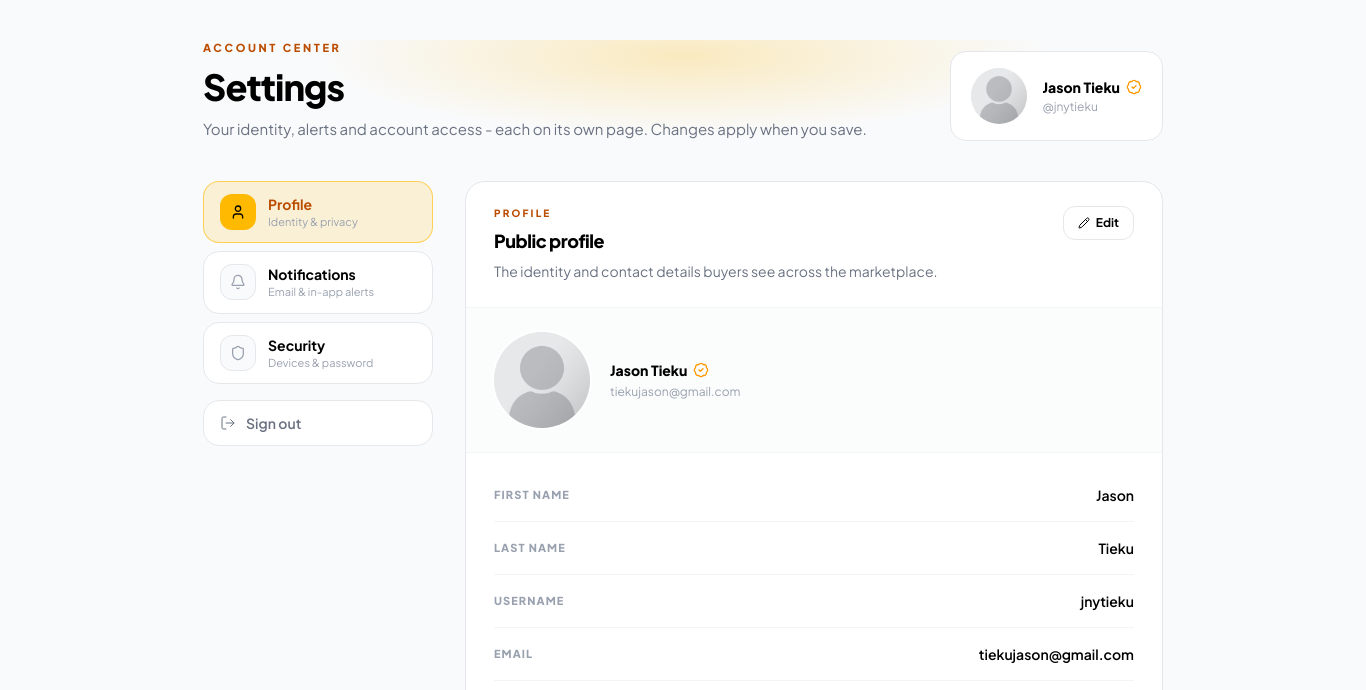
redesign smoke › settings profile: real data, edit flow, accurate save wording, no other sections
Click the button "Edit". click: (1098, 222)
box: [1063,206,1134,240]
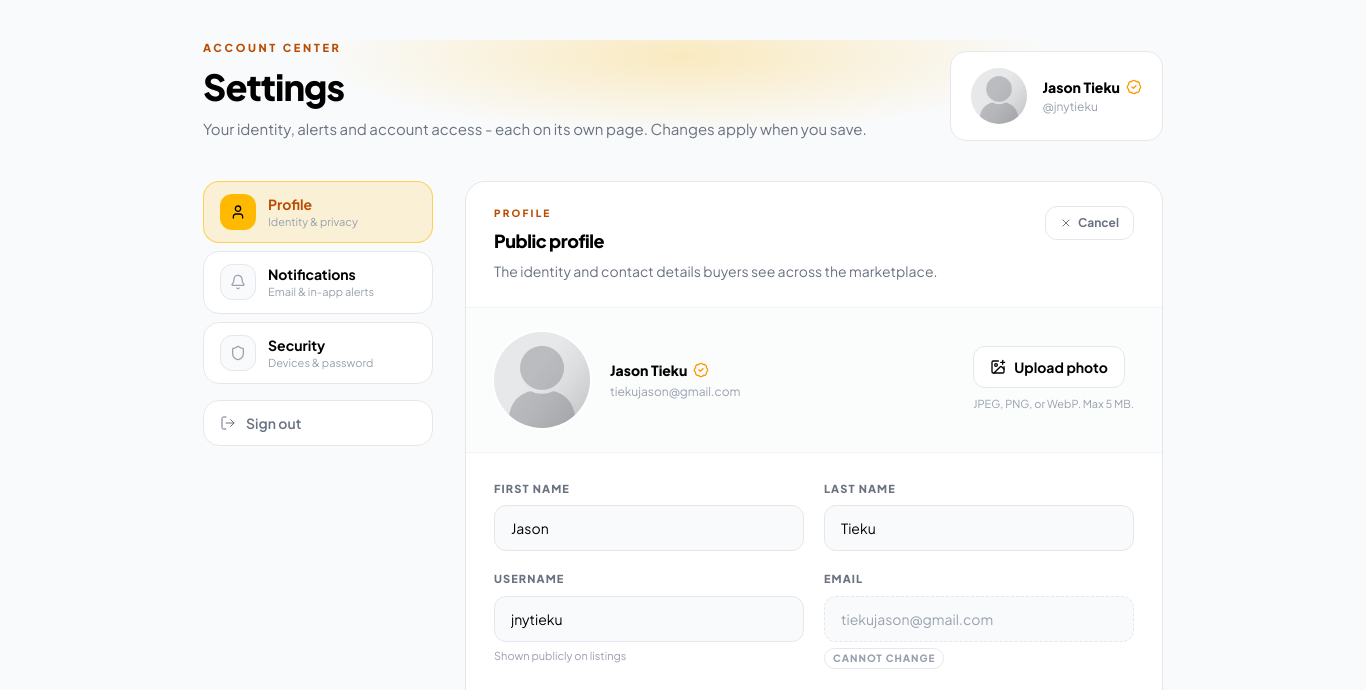
Result: the text "Upload photo" is shown at [973,346,1125,388]
Result: the text "Cannot change" is shown at [824,648,944,668]
